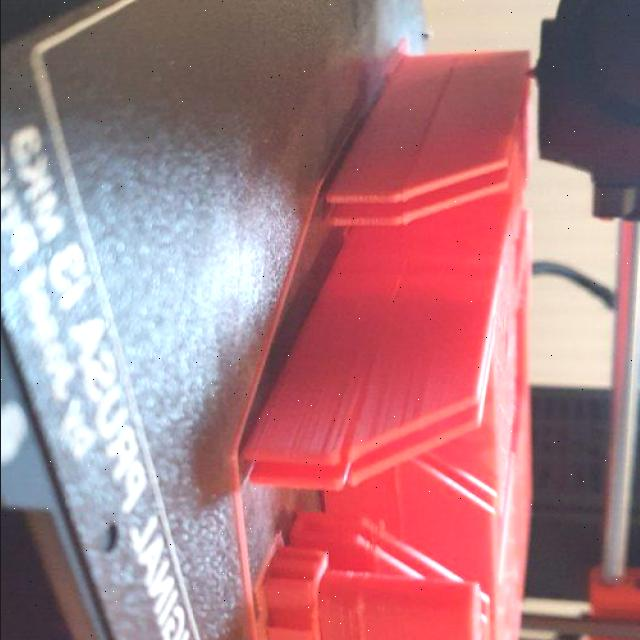cracking: (306, 363, 390, 513), (372, 134, 424, 246)
